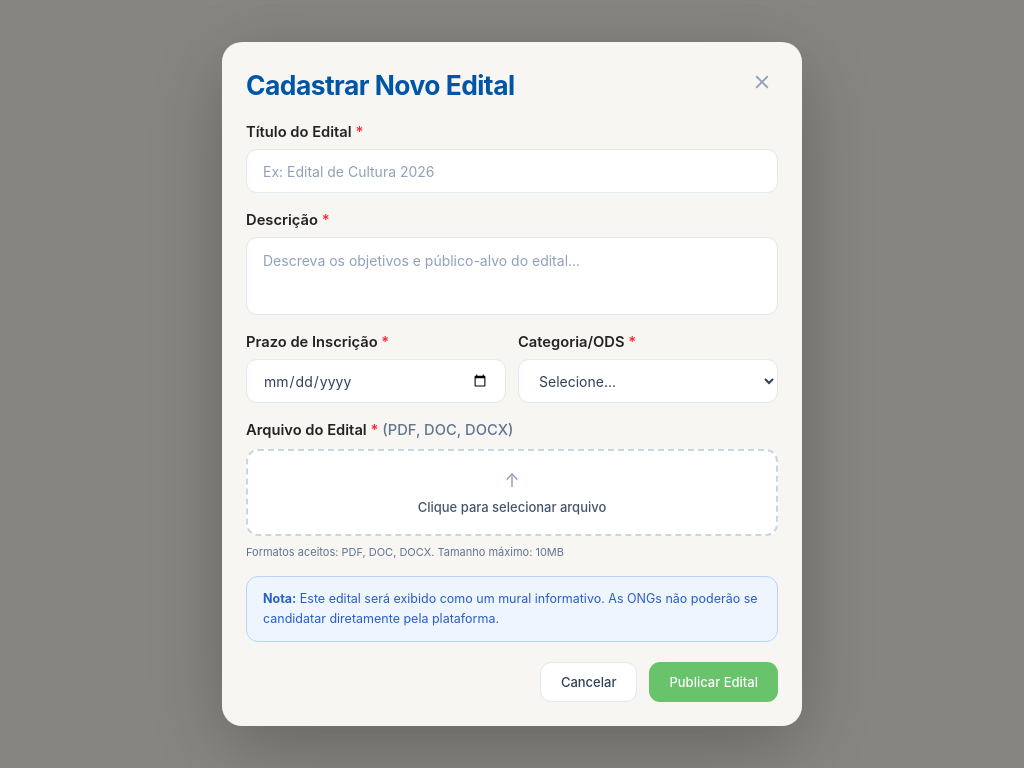
CreateNoticeModal › exibe erros de validação ao tentar publicar vazio
The image size is (1024, 768).
Click the button "Publicar Edital": (714, 682) top-left (649, 662), bottom-right (778, 702)
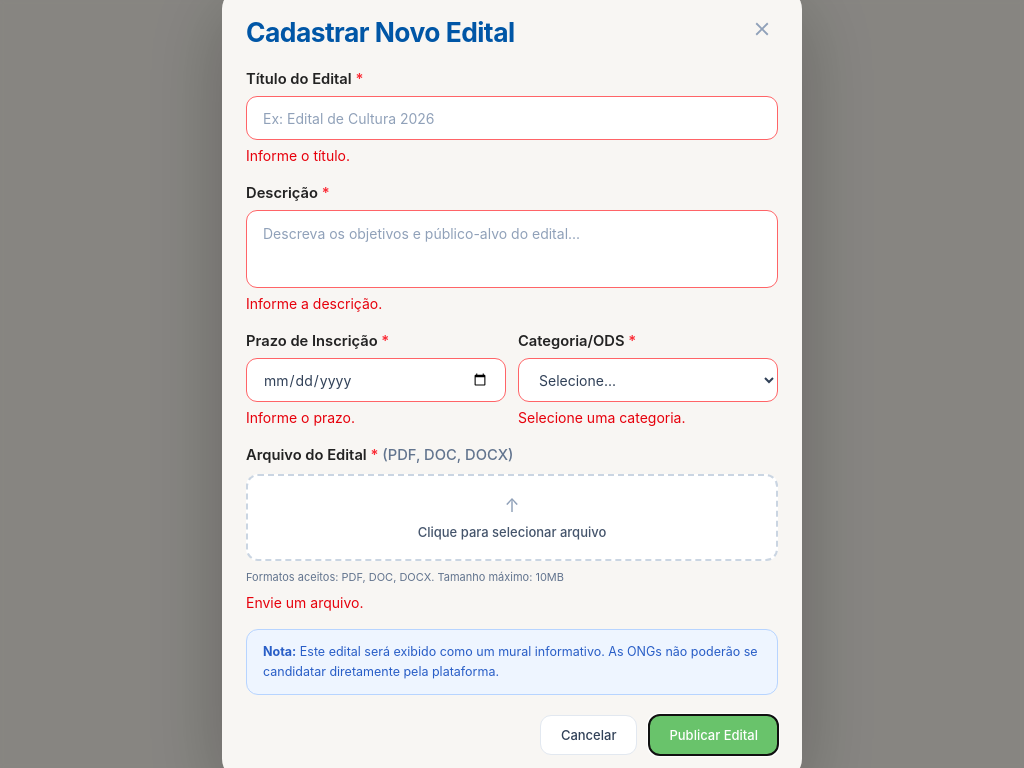
Expected: the text "Informe o título." is shown, top-left (246, 147), bottom-right (350, 164)
Expected: the text "Informe a descrição." is shown, top-left (246, 295), bottom-right (382, 312)
Expected: the text "Informe o prazo." is shown, top-left (246, 409), bottom-right (355, 426)
